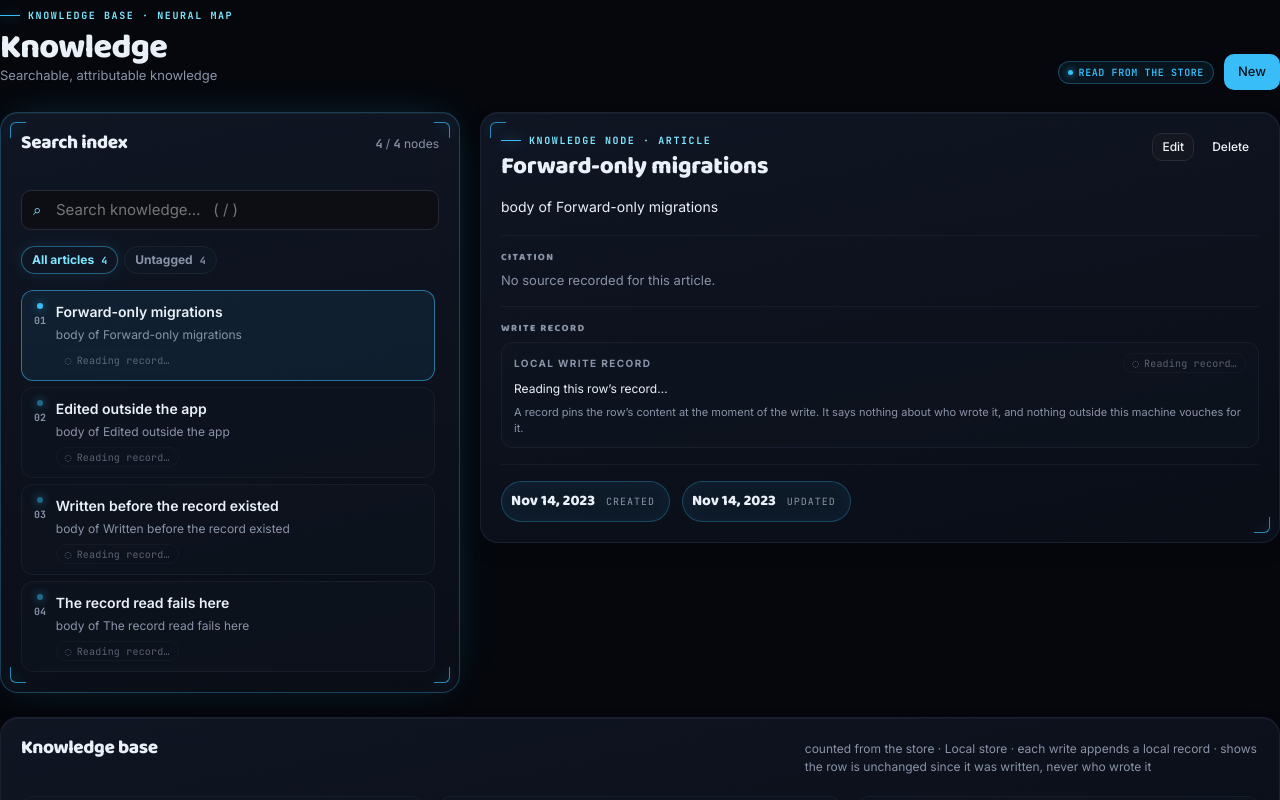
Test: Knowledge — a diverged note is not a shade of a recorded one › states what happened, with the recorded and the current hash
Click the text "Edited outside the app" at {"x": 131, "y": 409}, box [56,400,207,417]
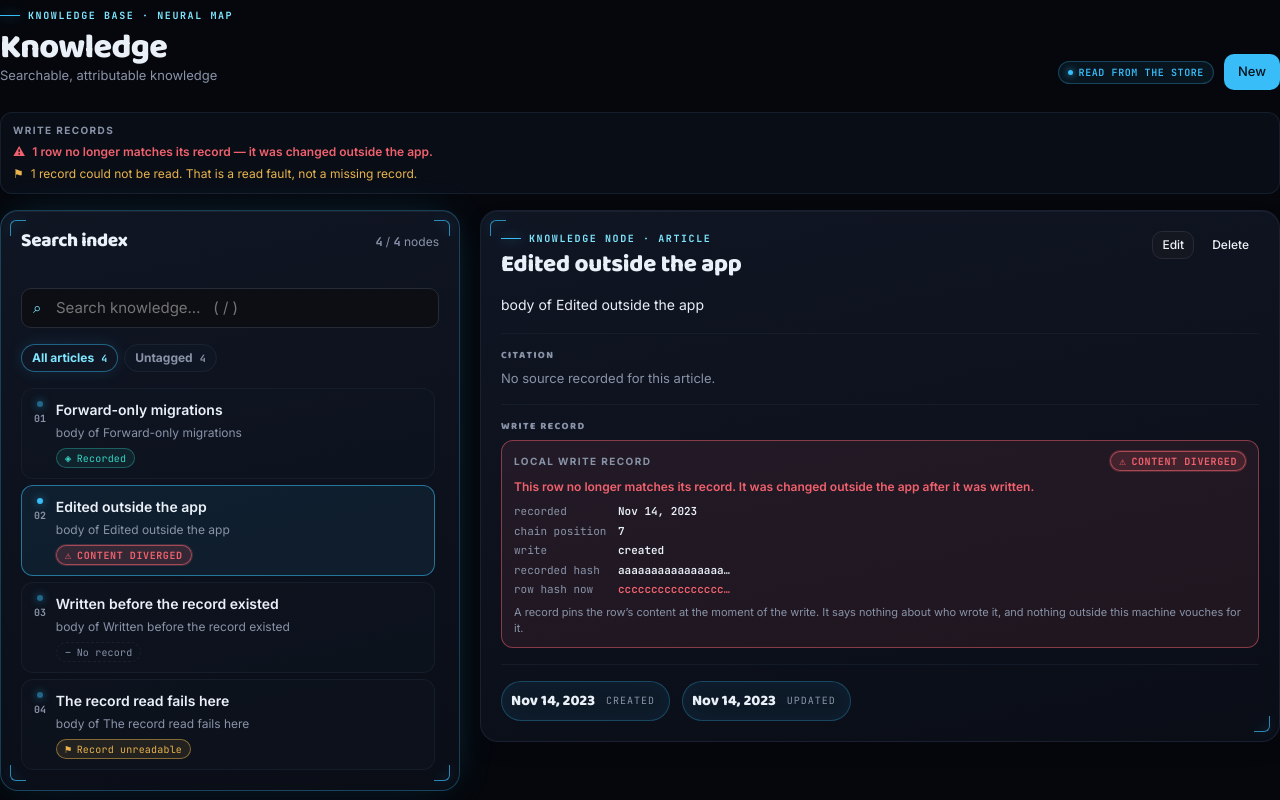
Check: the element with class "kb-article" shows "Edited outside the app", box [501,245,742,284]
Check: the message with class "wrec-panel" shows "no longer matches its record", box [514,479,1034,494]
Check: the message with class "wrec-panel" shows "changed outside the app", box [514,479,1034,494]
